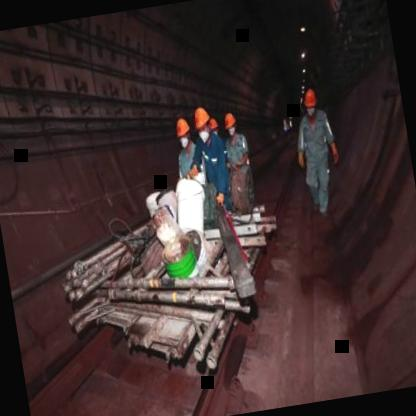helmet: (171, 115, 195, 149), (188, 104, 212, 138), (300, 82, 322, 116), (205, 113, 221, 144), (222, 112, 240, 138)
